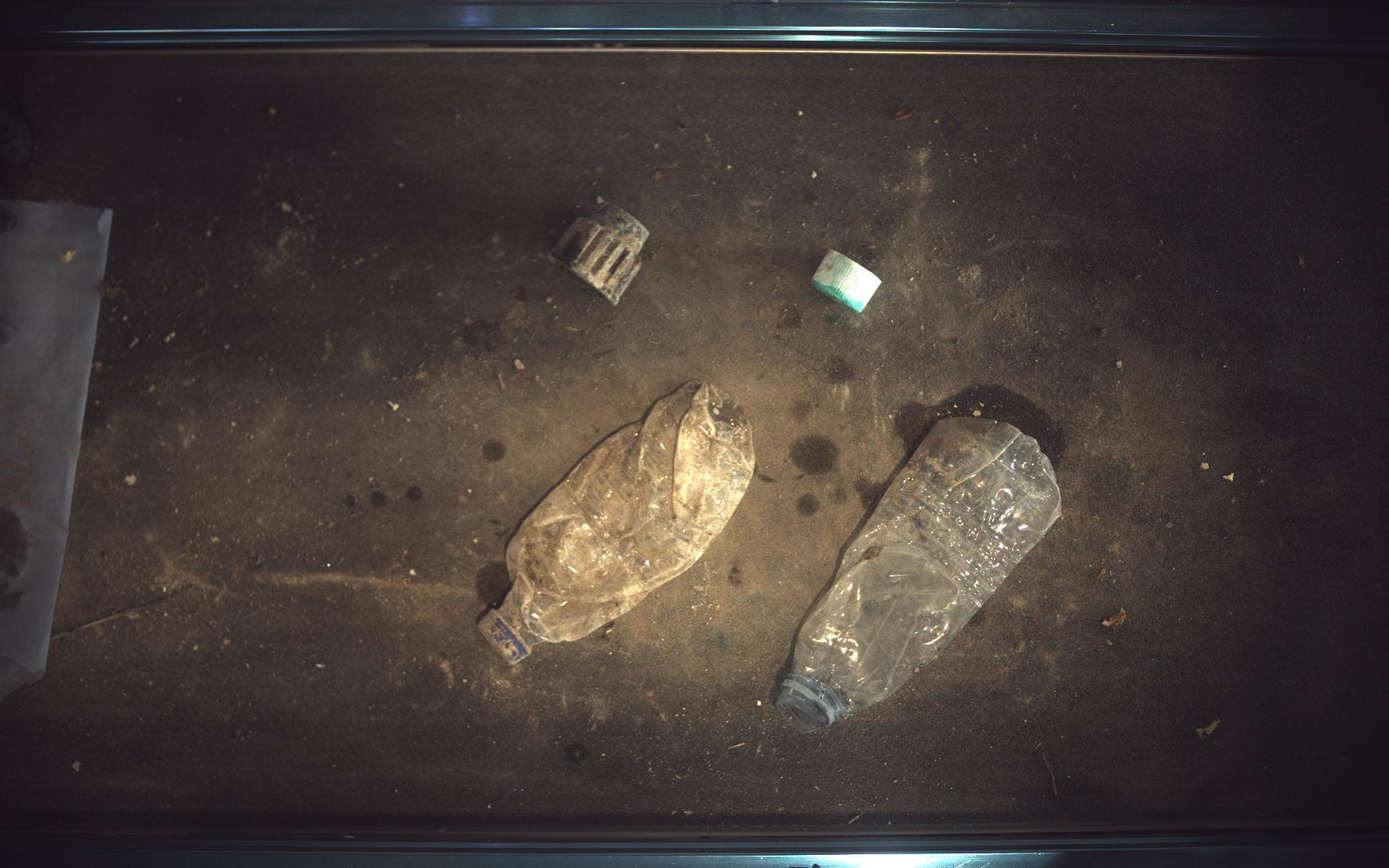general_w: (778, 417, 1063, 733), (478, 380, 756, 665), (813, 249, 883, 312)
plastic: (551, 203, 650, 305)
